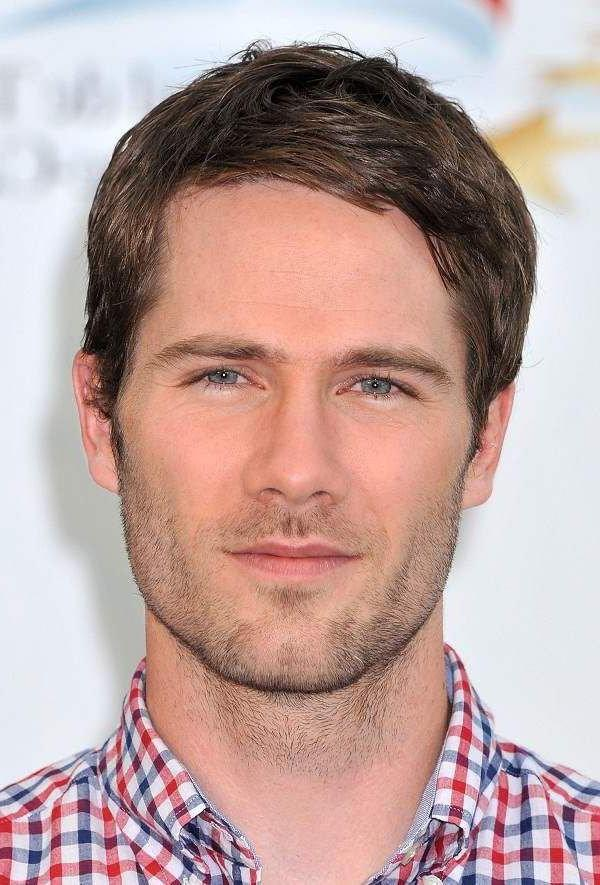Sober: (143, 204, 450, 658)
